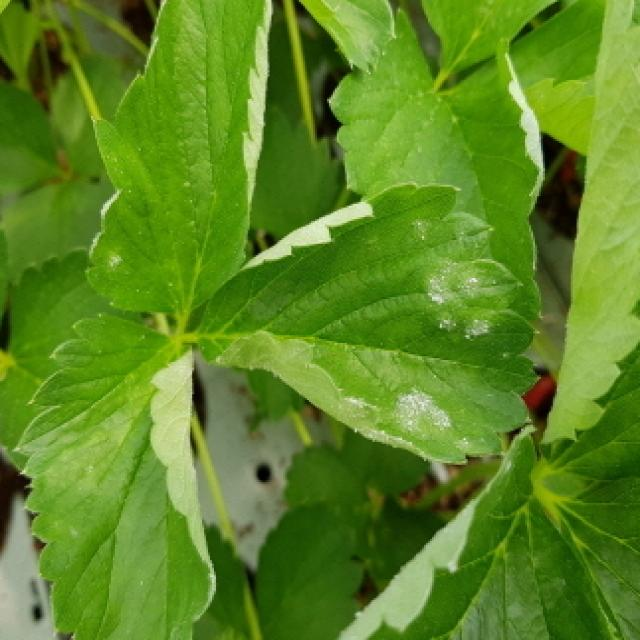Powdery Mildew Leaf: (191, 182, 543, 466), (325, 6, 545, 323), (10, 313, 216, 640), (335, 426, 624, 640), (85, 0, 273, 316), (539, 0, 640, 482)
